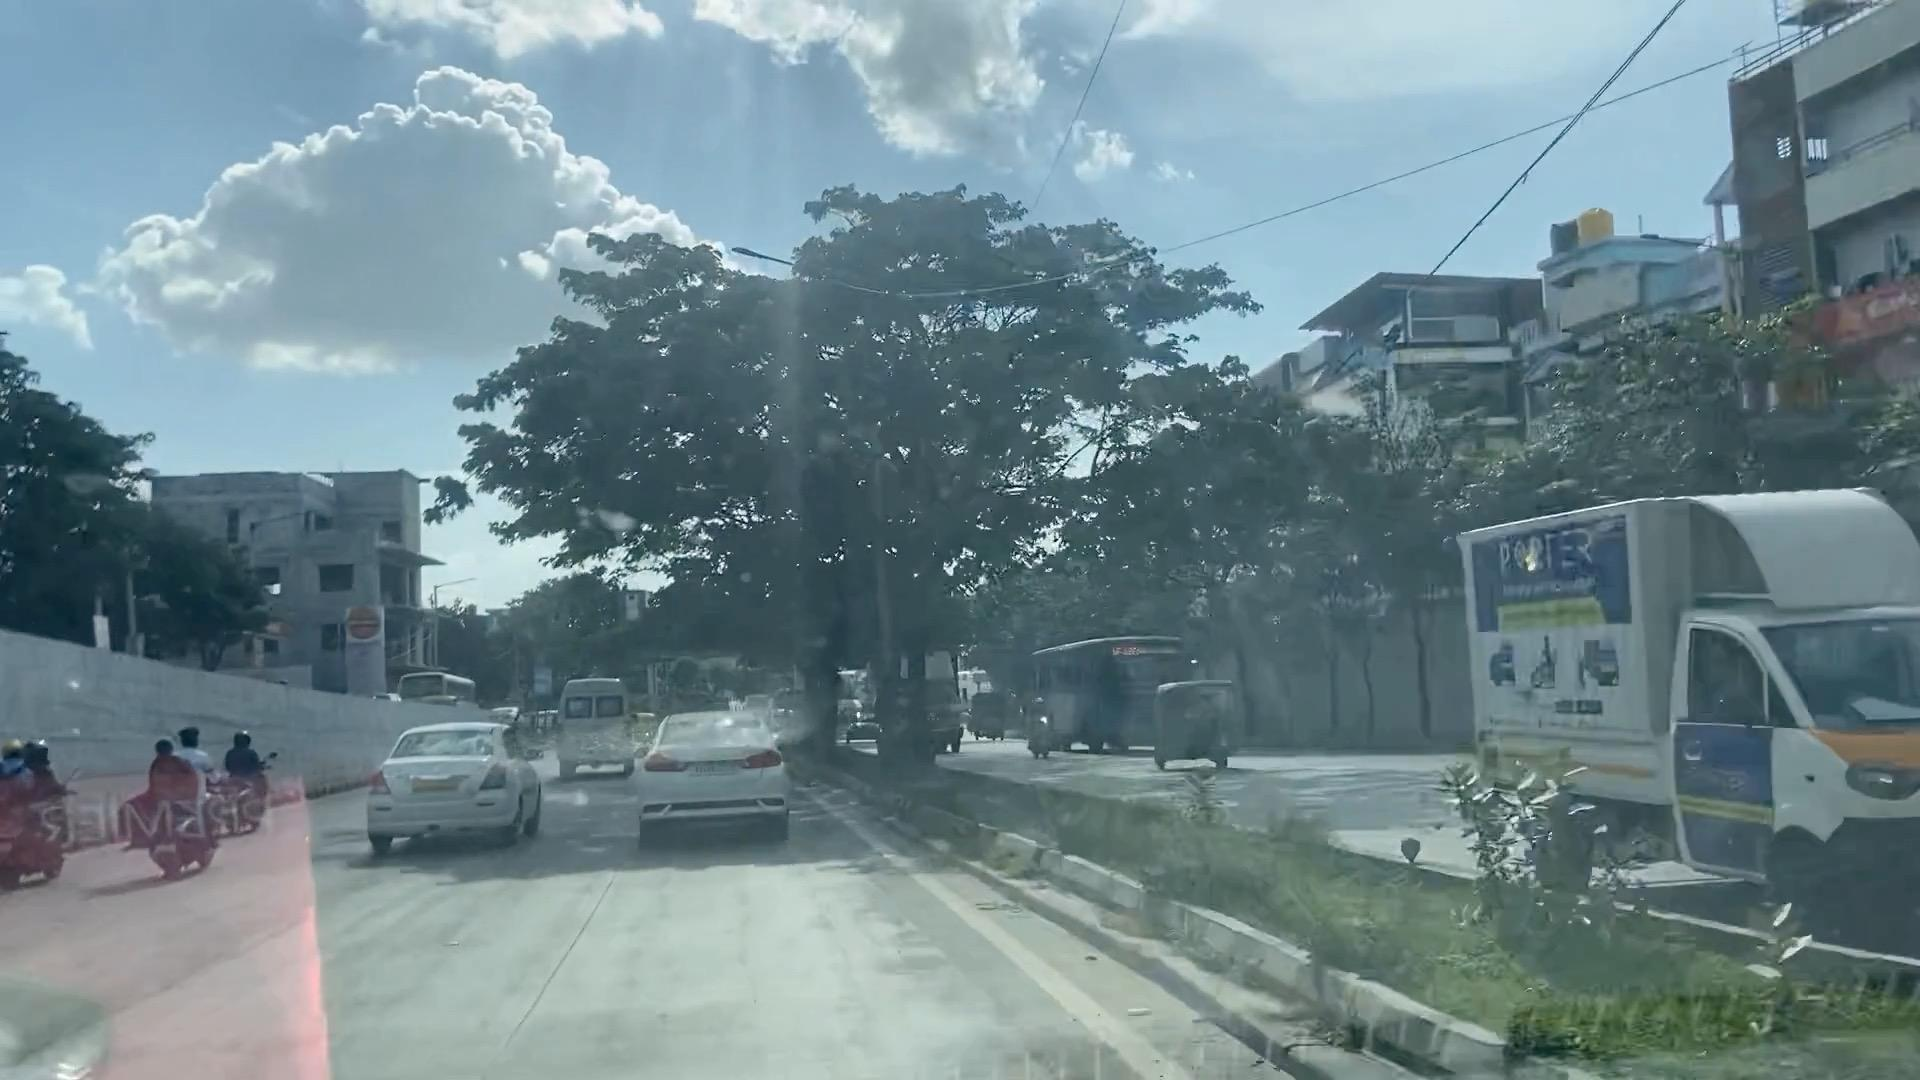LMV: (371, 735, 520, 845), (636, 715, 778, 820), (137, 720, 203, 876), (220, 723, 277, 837)
